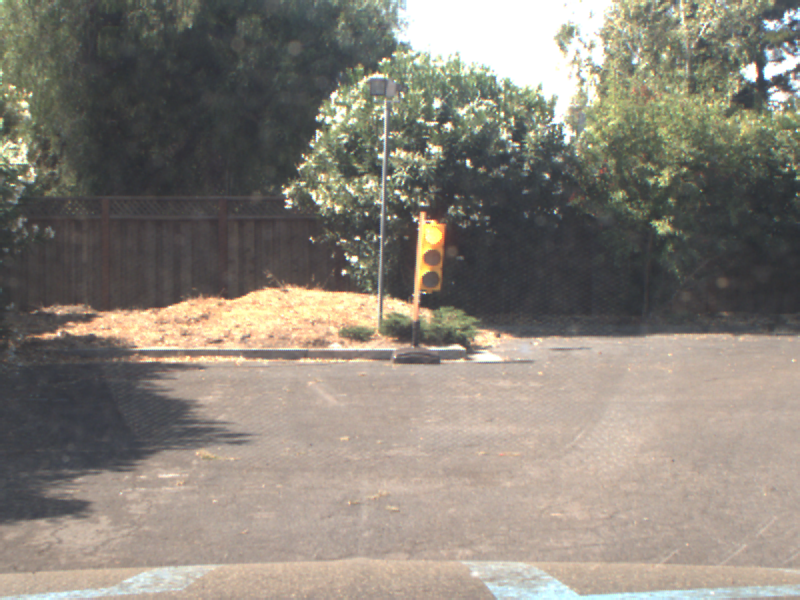red: (415, 213, 445, 293)
